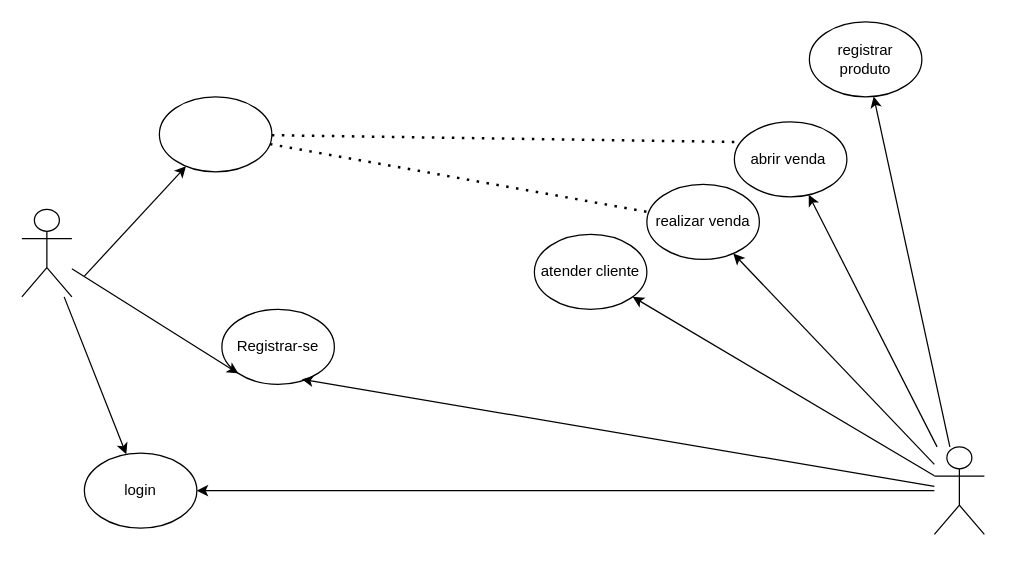
This 1013x583 diagram has some shape labels left out. The centre of each missing label's shape, as x and y in pixels:
"realizar pedido" belongs at point (215, 134).
"usuario" belongs at point (46, 252).
"vendedor" belongs at point (958, 490).
